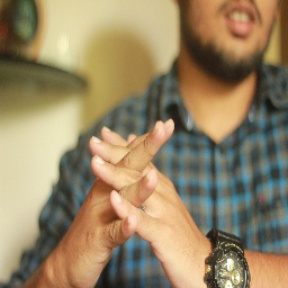W: (72, 105, 188, 276)
